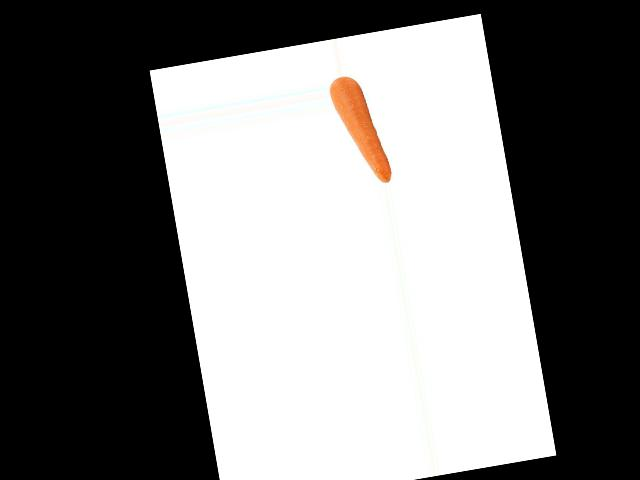carrot: (330, 88, 398, 191)
